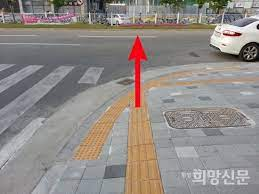guide_blocks: (125, 112, 163, 194), (72, 124, 113, 160), (174, 64, 235, 76), (160, 80, 259, 86), (96, 105, 123, 123)
